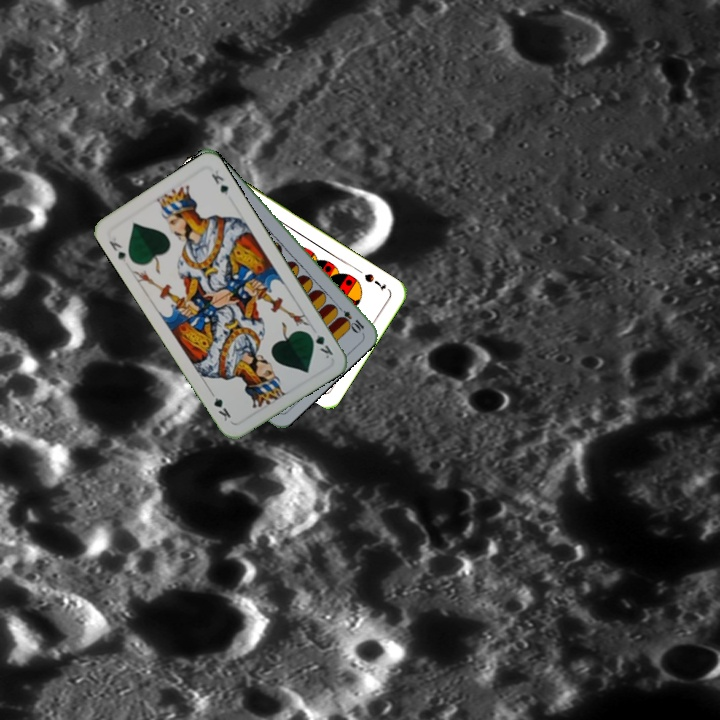E10: (332, 301, 367, 335)
GK: (304, 328, 336, 361), (105, 233, 129, 265)
S7: (360, 269, 389, 293)
